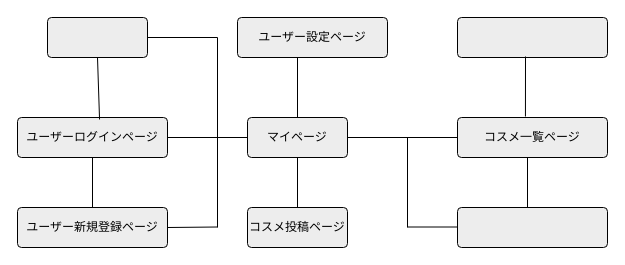
This 625x265 diagram has some shape labels left out. Here are the shapes that lost their labels. From the top down, the centre of each, then its label:
point 97,37: トップページ
point 532,37: コスメ編集ページ
point 532,227: コスメ詳細ページ
